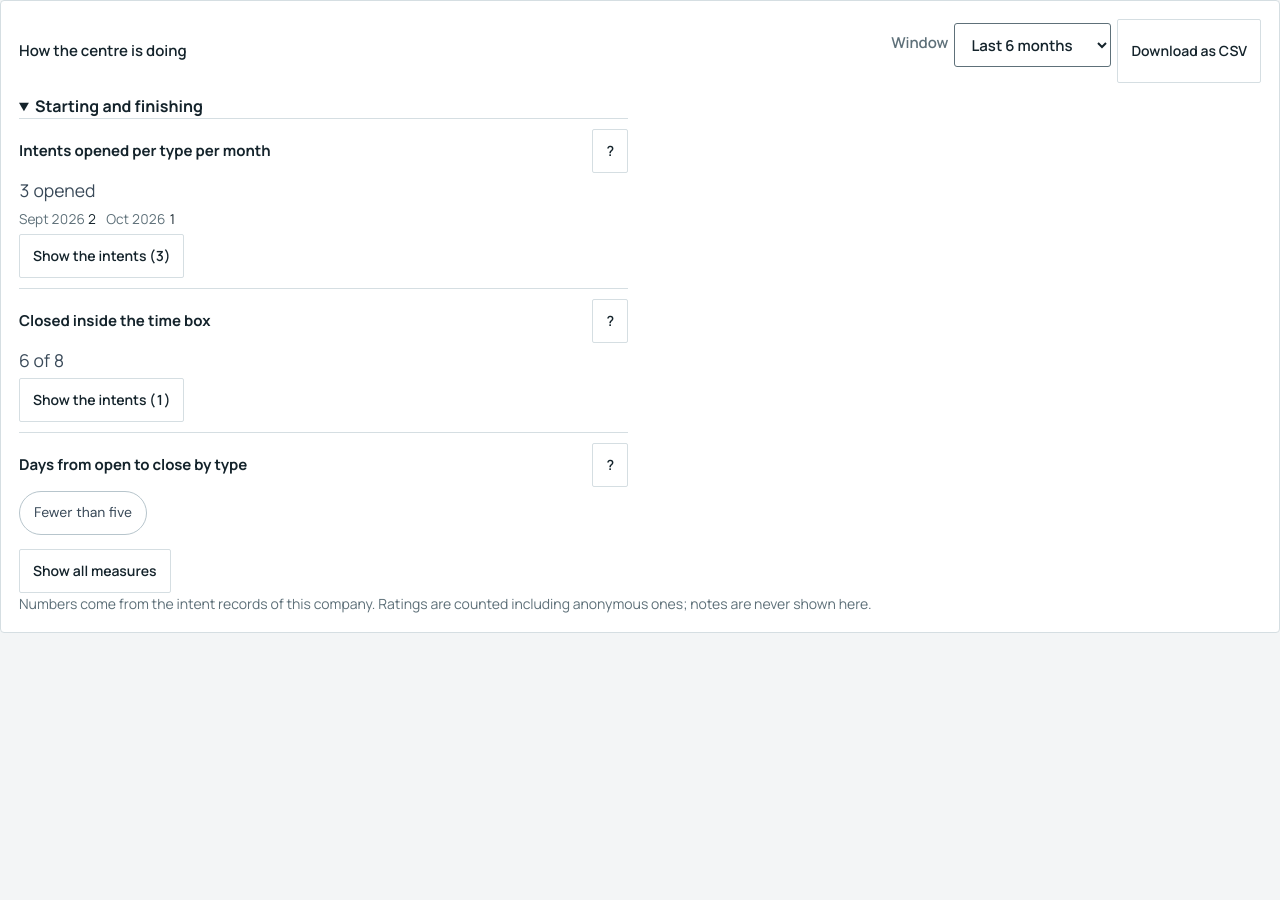
Test: CentreMeasures › re-fetches with the window and opens a definition
Expected: the text "6 of 8" is shown, [19,348,64,372]
Select "Last 12 months" in the dropdown at (1033, 45), box [954,23,1111,67]
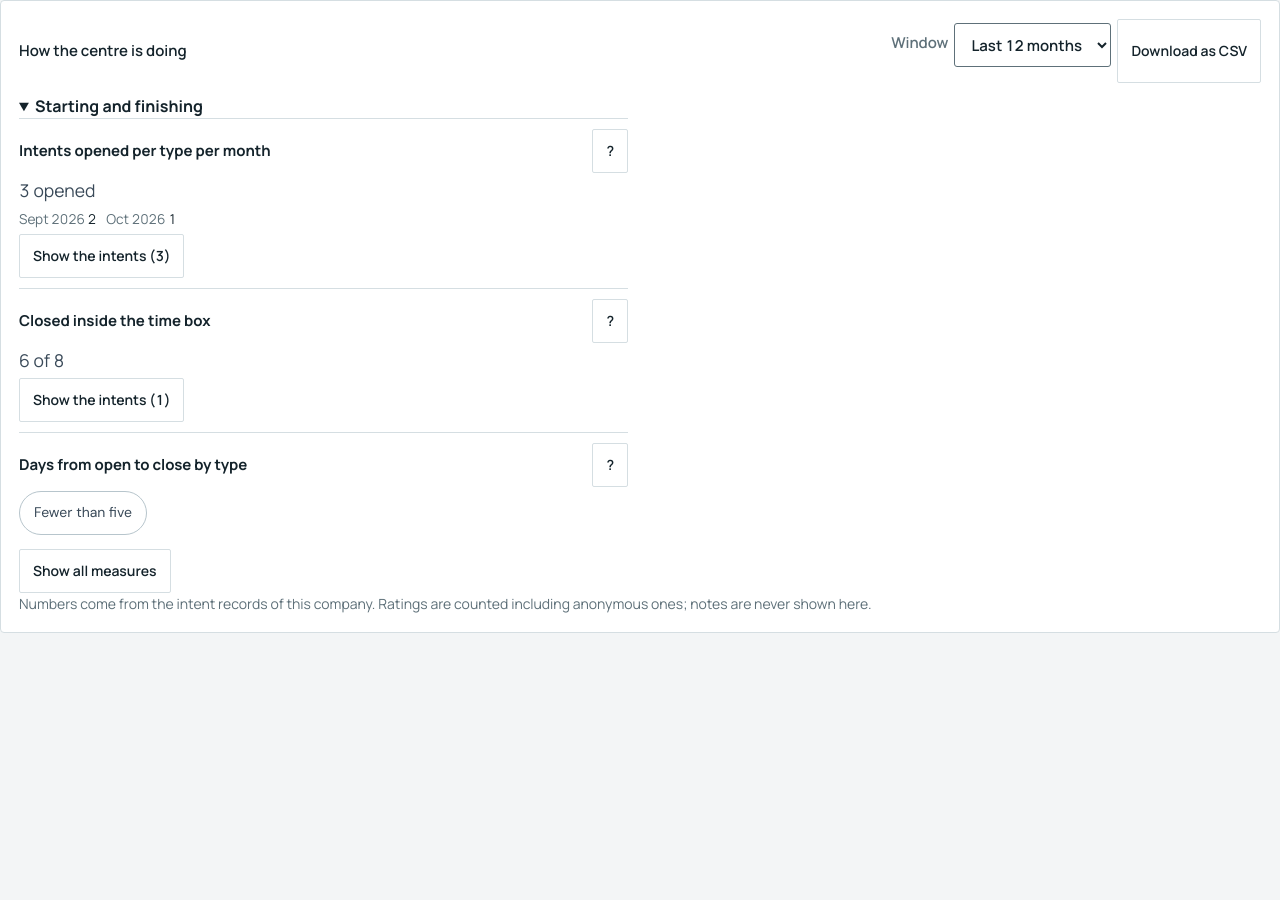
Expected: the text "6 of 8" is shown, [19,348,64,372]
Click the button named "What this counts: Closed inside the time box" at (610, 321), box [592,299,628,343]
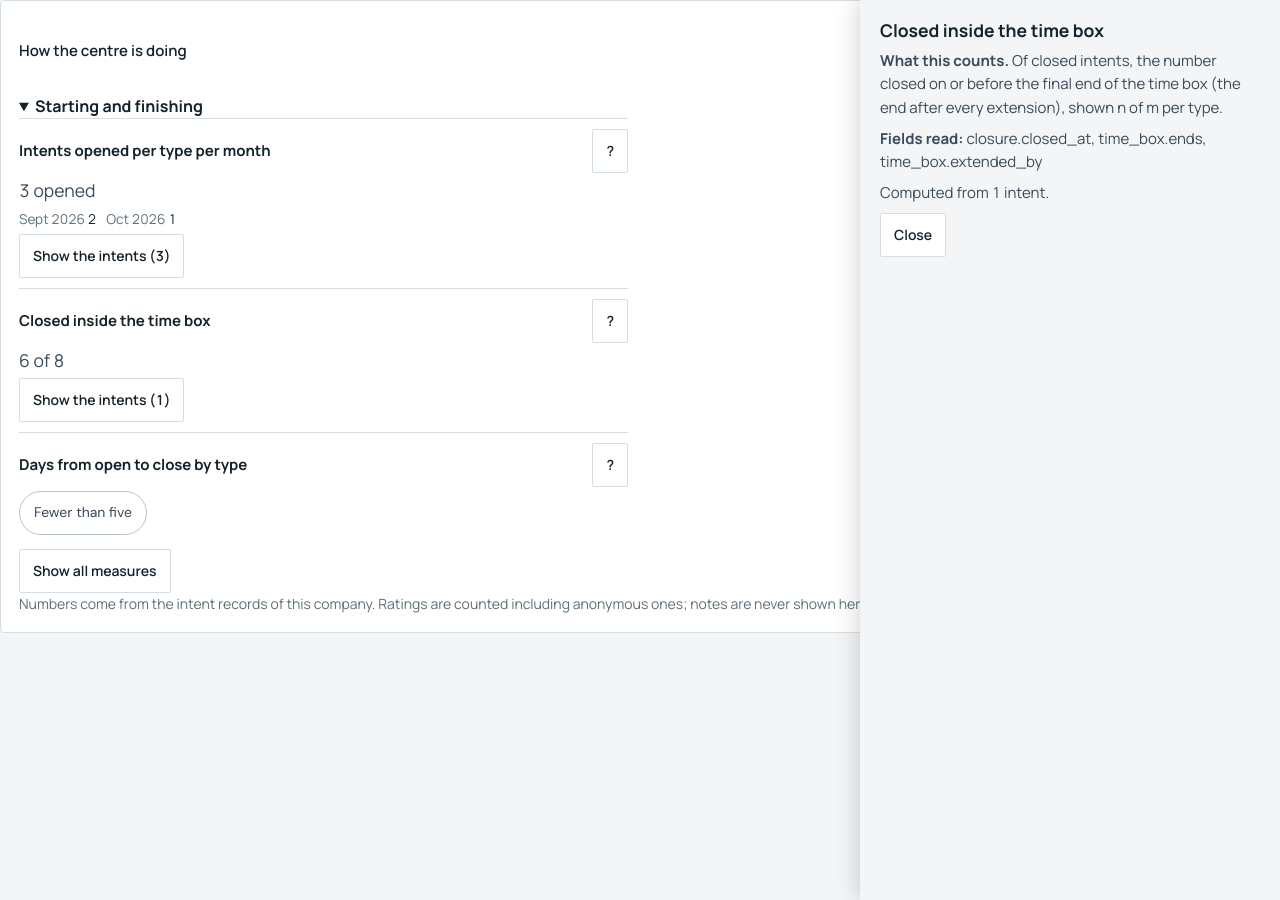
Expected: the dialog shows "final end of the time box", [880,50,1241,118]
